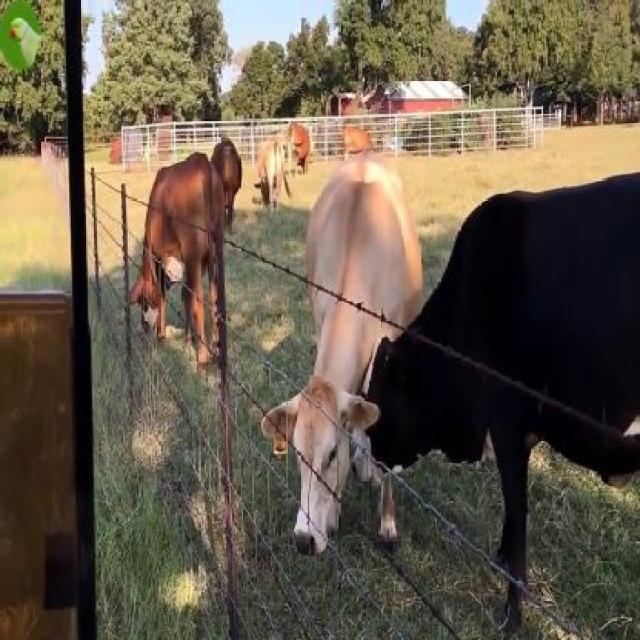Cow: (350, 168, 638, 626), (266, 154, 425, 558), (125, 152, 226, 374)
